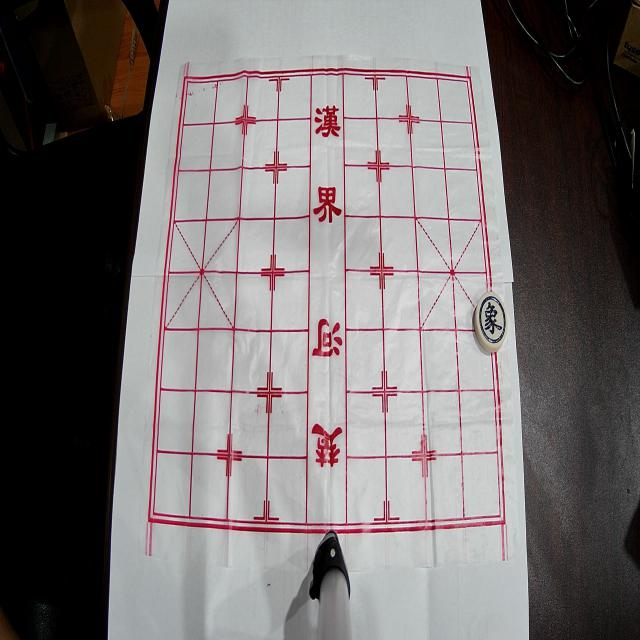black-elephant: (474, 292, 508, 352)
